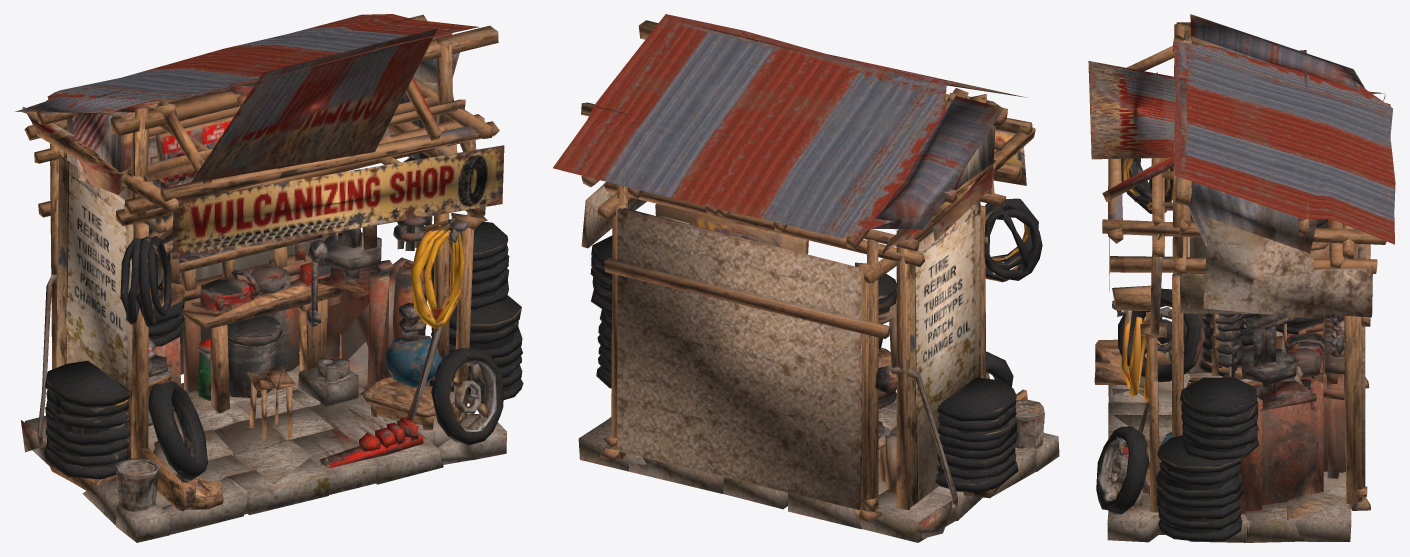
Rendered from vulcanizing.glb.
The picture shows the model from 3 angles, left to right: view 1: azimuth 30°, elevation 25°; view 2: azimuth 150°, elevation 25°; view 3: azimuth 270°, elevation 25°; orthographic projection. The views are drawn at different scales.
Visible parts, largest first — view 1: Mesh0; view 2: Mesh0; view 3: Mesh0.
Boxes of the visible parts, left/top/right/bottom form: Mesh0: left=15, top=14, right=523, bottom=542; Mesh0: left=553, top=14, right=1059, bottom=542; Mesh0: left=1088, top=14, right=1395, bottom=542.
Bounding box in the file's own units: 1 × 0.8743 × 0.6538.
1 material, 1 textured.
